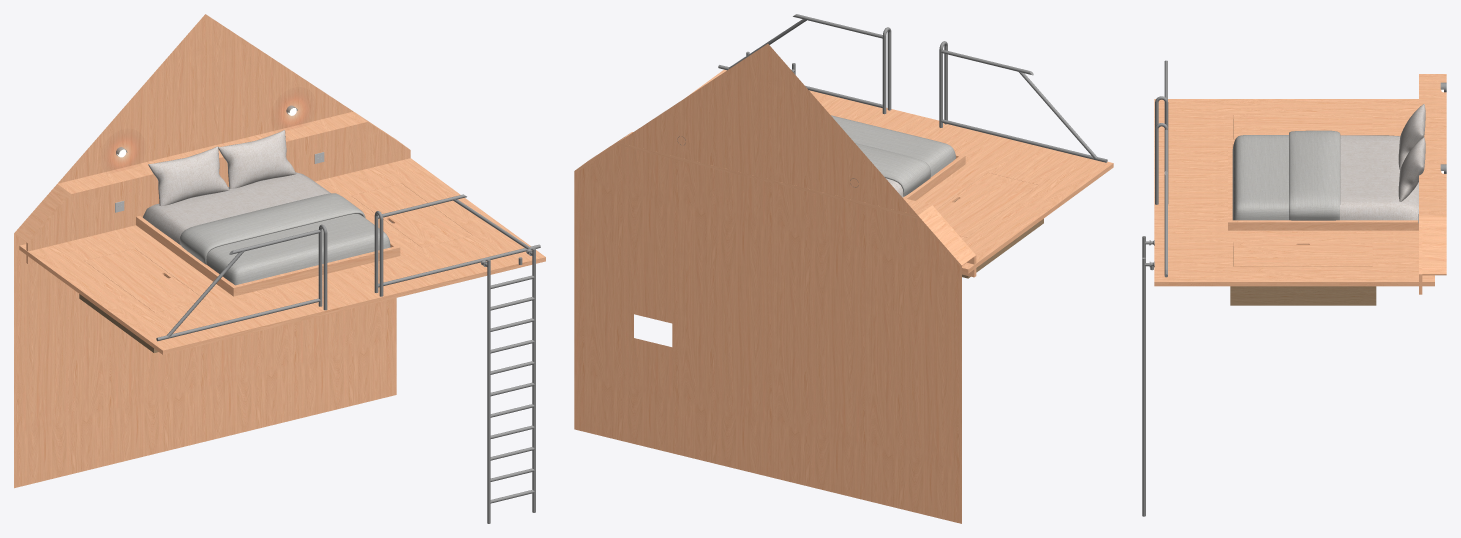
Rendered from Mezzanine King.glb.
The picture shows the model from 3 angles, left to right: view 1: azimuth 30°, elevation 25°; view 2: azimuth 150°, elevation 25°; view 3: azimuth 270°, elevation 25°; orthographic projection. The views are drawn at different scales.
Visible parts, largest first — view 1: Interior_Wood_Mezzanine King, Gray Fabrics_Mezzanine King, White_fabric_Mezzanine King, Alumininum_1_Mezzanine King; view 2: Interior_Wood_Mezzanine King, Gray Fabrics_Mezzanine King, Alumininum_1_Mezzanine King; view 3: Interior_Wood_Mezzanine King, Gray Fabrics_Mezzanine King, White_fabric_Mezzanine King, Interior_Light_Wood_Mezzanine King, Alumininum_1_Mezzanine King.
Part boxes in pixels (x1,y1,x2,y2): Interior_Wood_Mezzanine King: (14, 14, 545, 488); Gray Fabrics_Mezzanine King: (179, 193, 390, 285); White_fabric_Mezzanine King: (143, 130, 330, 244); Alumininum_1_Mezzanine King: (116, 105, 540, 523); Interior_Wood_Mezzanine King: (574, 44, 1113, 523); Gray Fabrics_Mezzanine King: (831, 115, 955, 196); Alumininum_1_Mezzanine King: (677, 14, 1107, 187); Interior_Wood_Mezzanine King: (1154, 74, 1446, 294); Gray Fabrics_Mezzanine King: (1232, 130, 1340, 220); White_fabric_Mezzanine King: (1340, 104, 1425, 220); Interior_Light_Wood_Mezzanine King: (1230, 119, 1376, 305); Alumininum_1_Mezzanine King: (1142, 60, 1446, 516).
Bounding box in the file's own units: 1.88 × 2.01 × 1.32.
8 materials, 5 textured.
